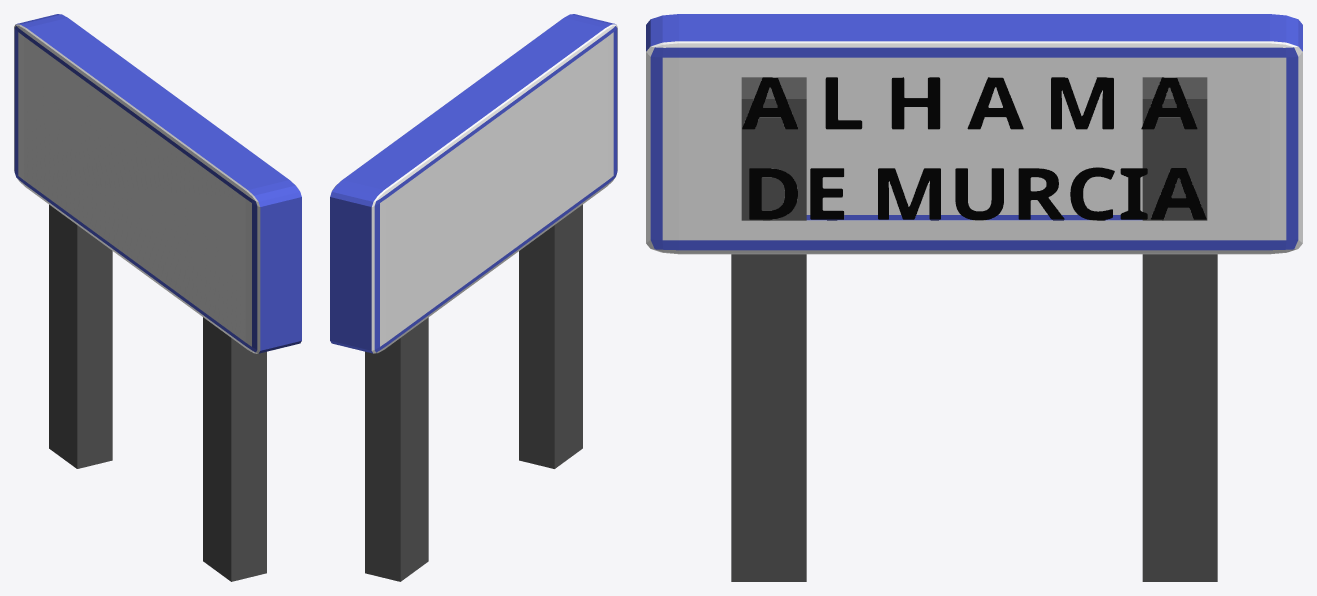
Rendered from AlhamaDeMurcia.fbx.
3 renders of one model, left to right at view 1: azimuth 30°, elevation 25°; view 2: azimuth 150°, elevation 25°; view 3: azimuth 270°, elevation 25°, orthographic. The views are drawn at different scales.
Parts seen in each view (by area): view 1: Cube; view 2: Cube; view 3: Cube.
Part boxes in pixels (<box>): Cube: <box>14,14,301,581</box>; Cube: <box>330,14,617,581</box>; Cube: <box>646,14,1302,581</box>.
Bounding box in the file's own units: 26.8 × 225 × 246.
